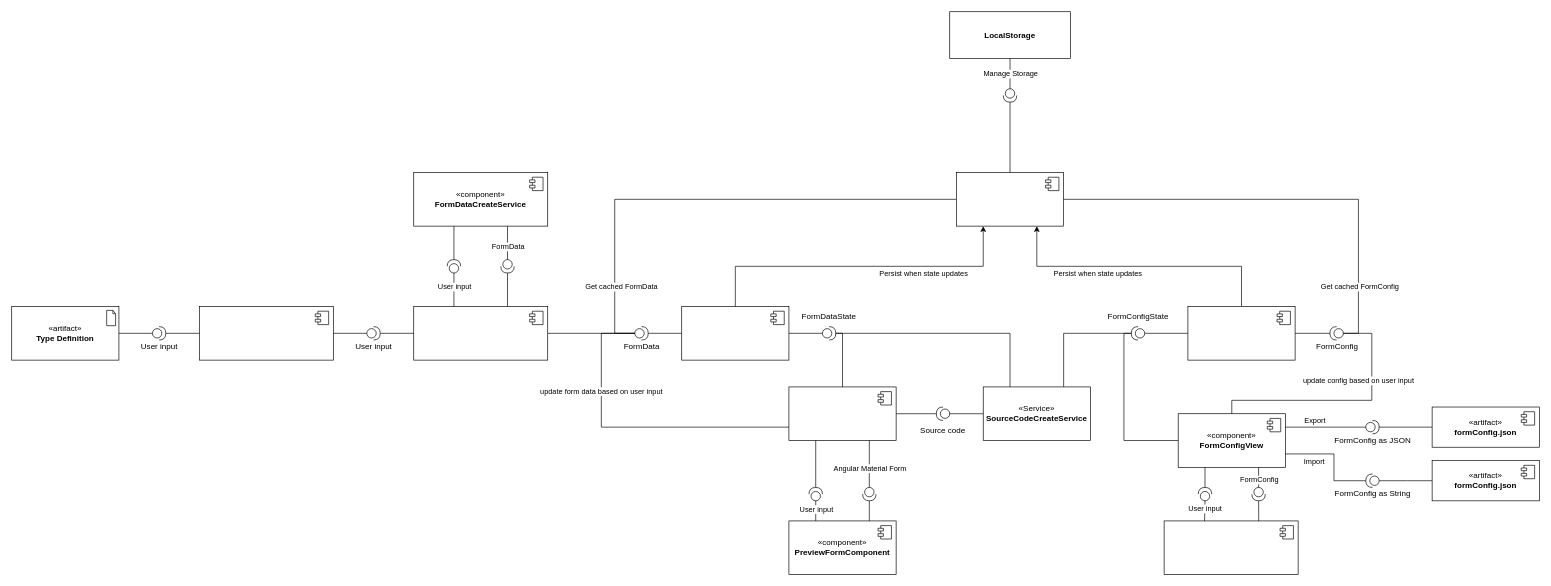
The diagram is 1551 pixels wide and 586 high, and some of its shapes have lost their labels. The shapes that lost their labels are listed below. From the top down, each one's centre as x and y in pixels, then its label:
At (1010,199): "«component» StorageService".
At (266,333): "«component» UploadFormComponent".
At (480,333): "«component» UploadView".
At (735,333): "«component» FormDataStore".
At (1241,333): "«component» FormConfigStore".
At (842,413): "«component» PreviewView".
At (1230,547): "«component» FormConfigFormComponent".
